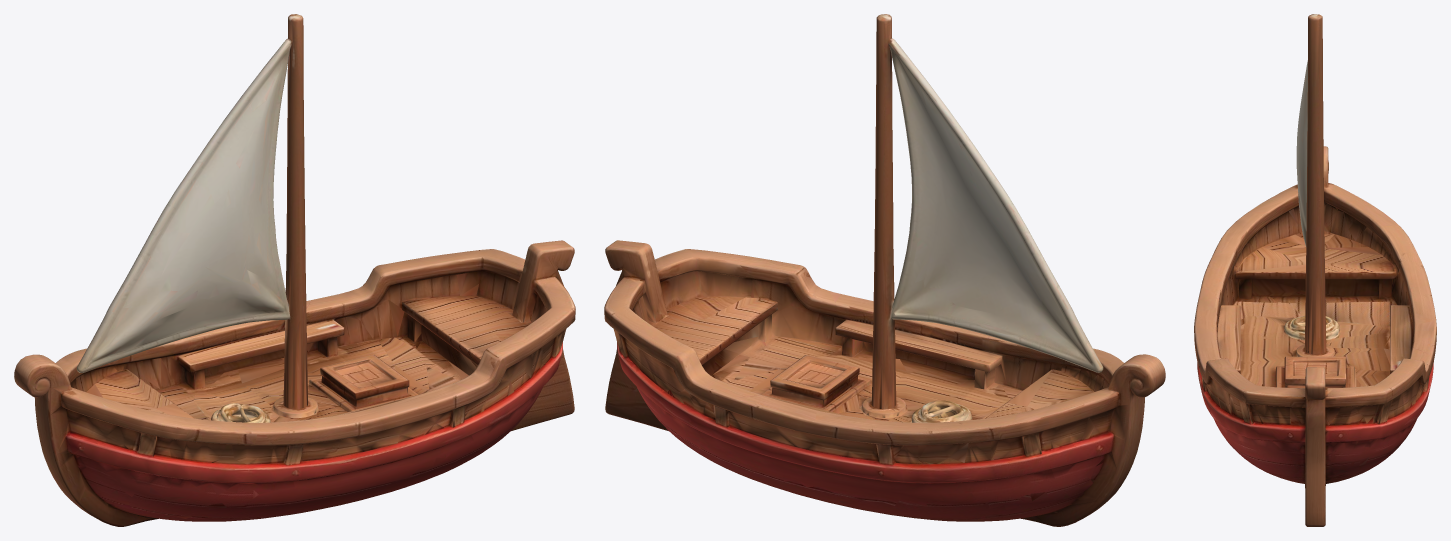
The model's file is perahu.glb.
3 views of the same model, side by side, from view 1: azimuth 30°, elevation 25°; view 2: azimuth 150°, elevation 25°; view 3: azimuth 270°, elevation 25° (orthographic). The views are drawn at different scales.
Parts seen in each view (by area): view 1: node_0; view 2: node_0; view 3: node_0.
Part boxes in pixels (bbox=[...]): node_0: bbox=[14, 14, 575, 526]; node_0: bbox=[604, 14, 1165, 526]; node_0: bbox=[1194, 14, 1436, 526].
Bounding box in the file's own units: 0.9497 × 0.776 × 0.4212.
Materials: 1 (1 with a texture image).
